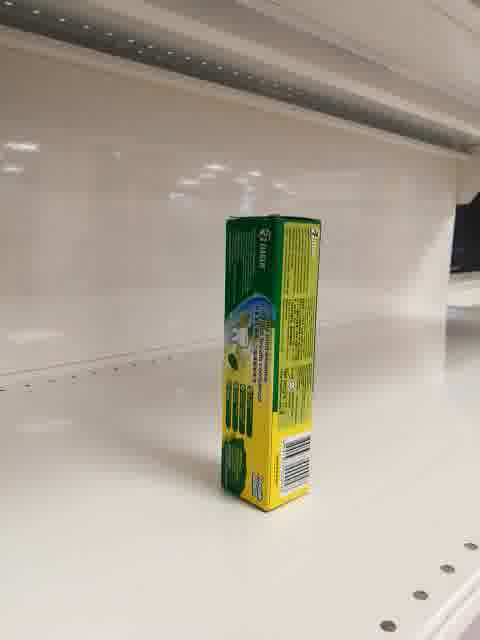toothpaste: (220, 215, 323, 516)
